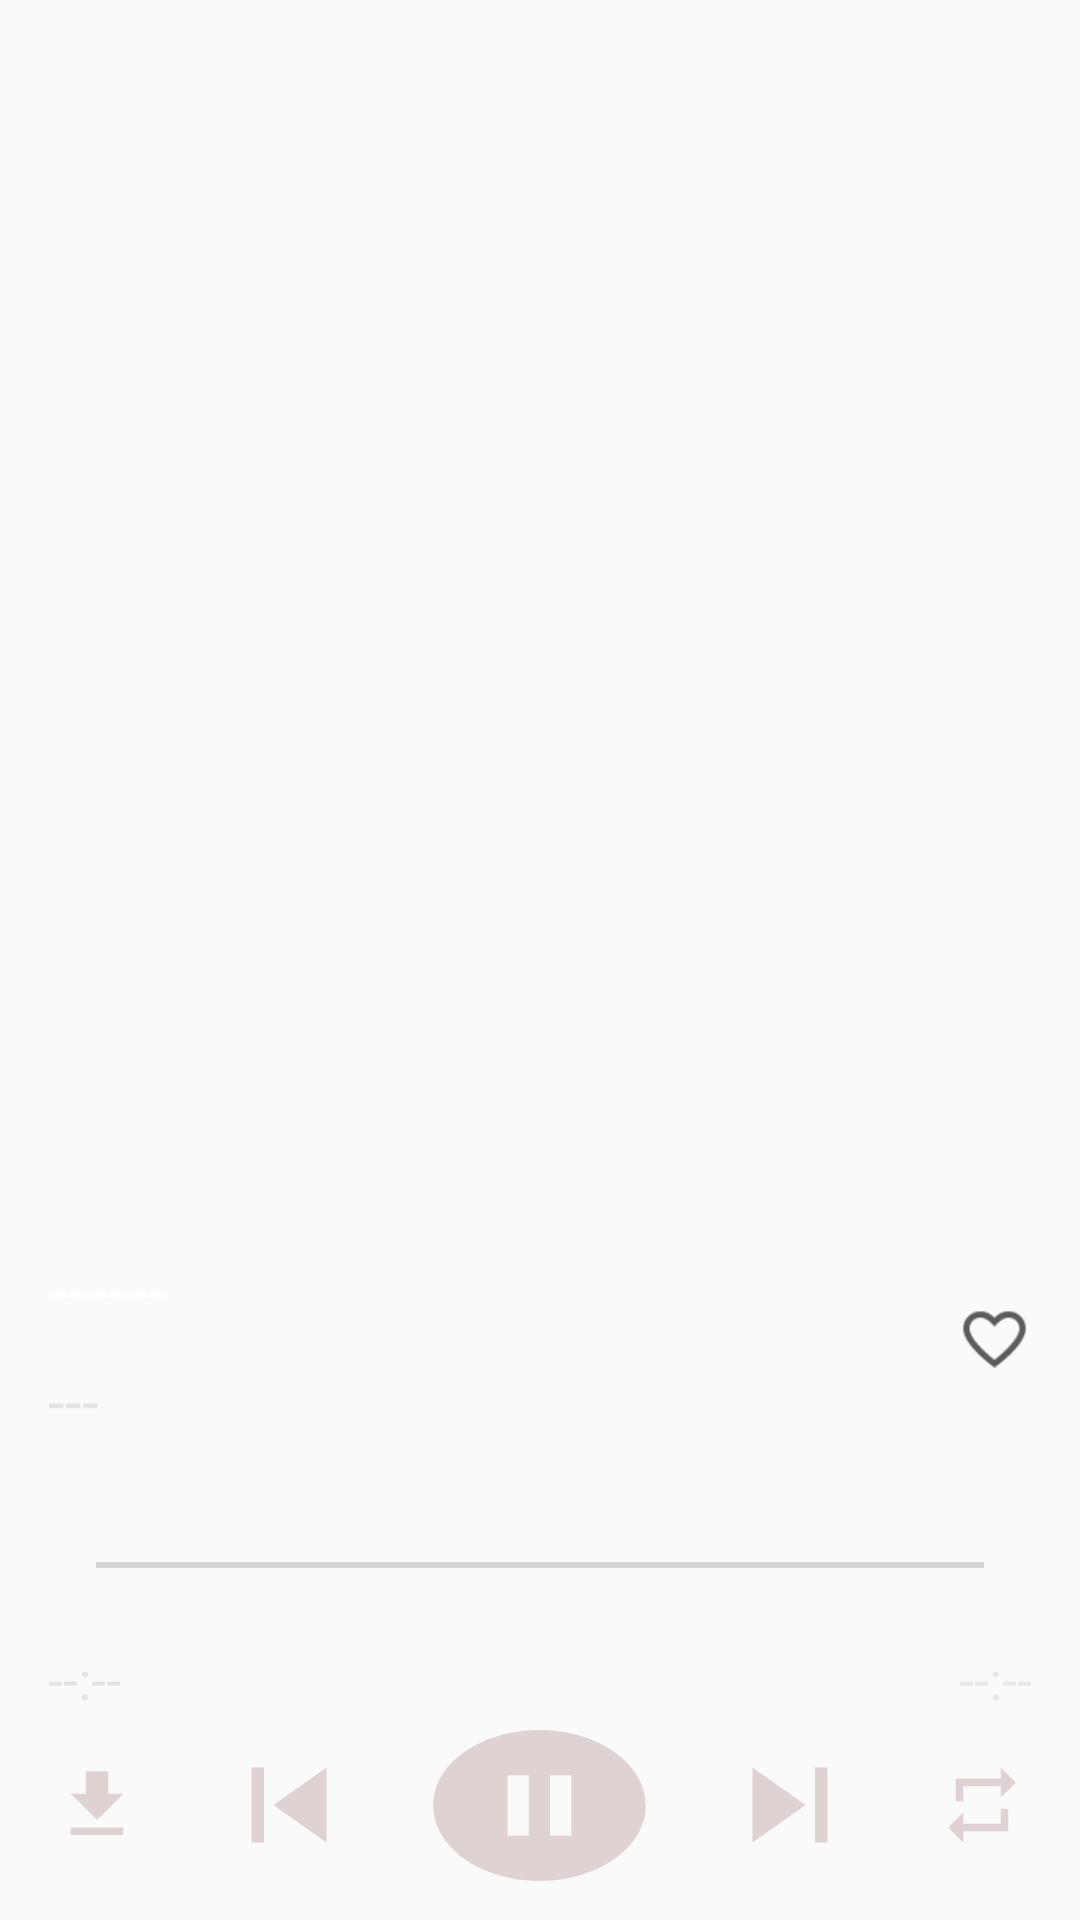

Where to tap for icons on this 1080x1920 app screen, as (x=x, y=y):
download: (x=97, y=1803)
iconlove: (x=994, y=1339)
pause circle: (x=539, y=1805)
repeat: (x=982, y=1805)
skip next: (x=790, y=1805)
skip previous: (x=289, y=1805)
